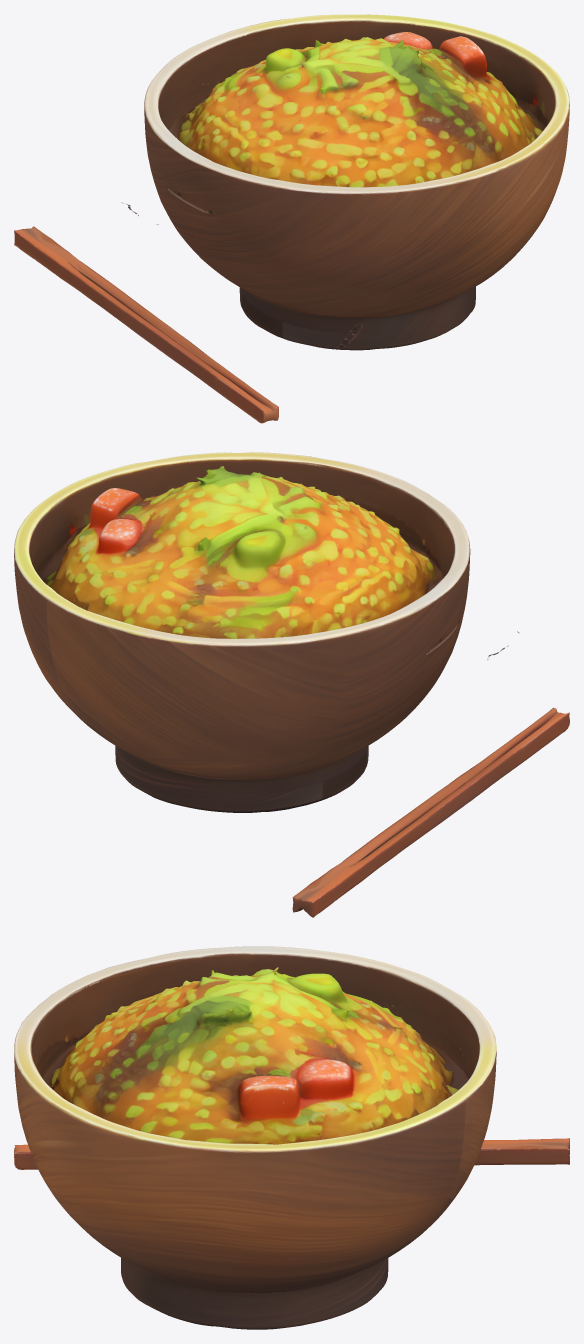
Rendered from fried_rice.glb.
3 renders of one model, top to bottom at view 1: azimuth 30°, elevation 25°; view 2: azimuth 150°, elevation 25°; view 3: azimuth 270°, elevation 25°, orthographic. The views are drawn at different scales.
Parts seen in each view (by area): view 1: model; view 2: model; view 3: model.
Boxes of the visible parts, left/top/right/bottom form: model: left=14, top=14, right=569, bottom=423; model: left=14, top=452, right=569, bottom=917; model: left=14, top=946, right=569, bottom=1329.
Size of the model in its own units: 1.85 by 1.07 by 1.88.
1 material, 1 textured.
